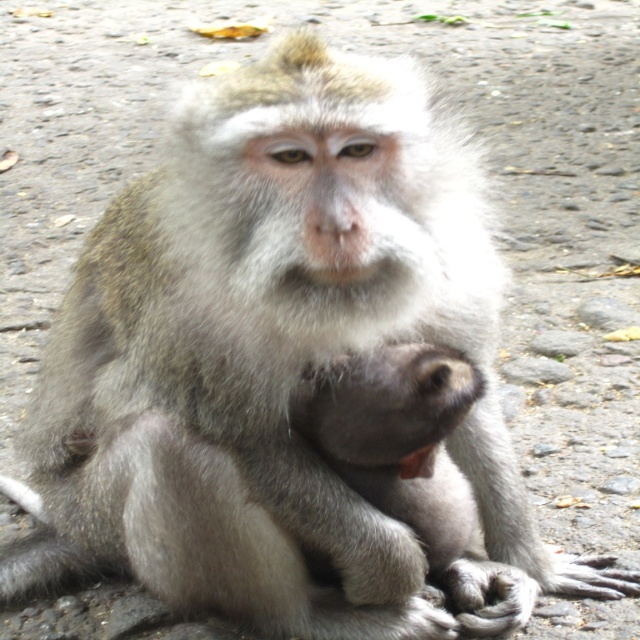Monkey: (2, 55, 587, 628)
